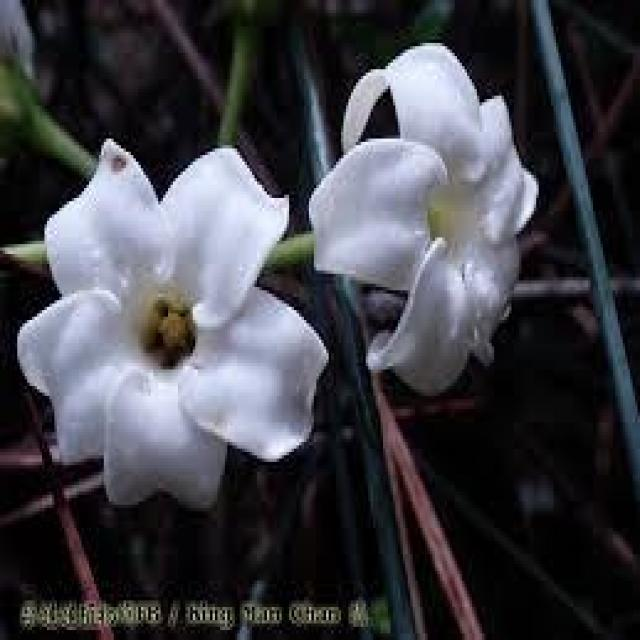organic waste: (12, 147, 324, 506), (315, 40, 542, 399)
